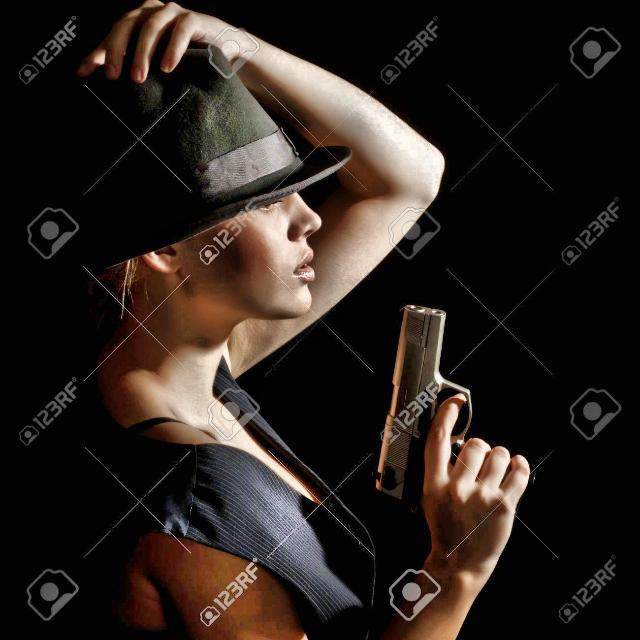pistol: (362, 290, 540, 524)
